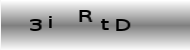3: (28, 17, 43, 32)
D: (114, 18, 131, 32)
R: (77, 9, 93, 24)
i: (46, 14, 53, 30)
t: (99, 18, 110, 31)
